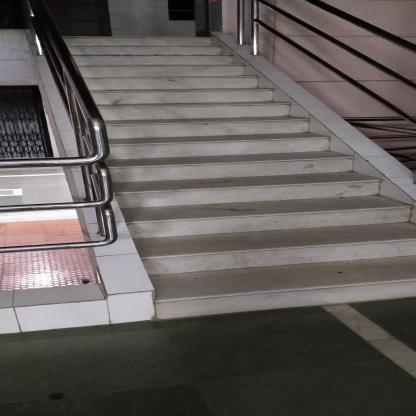stairs: (157, 179, 376, 319)
